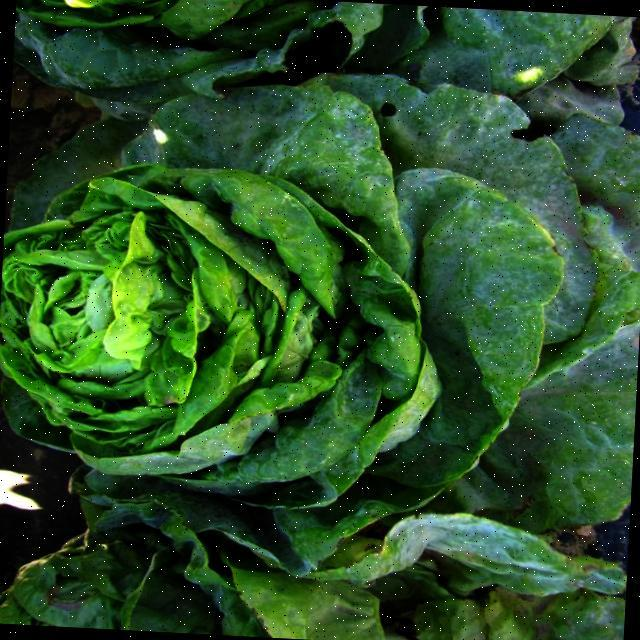Powdery_Mildew: (43, 75, 561, 521)
